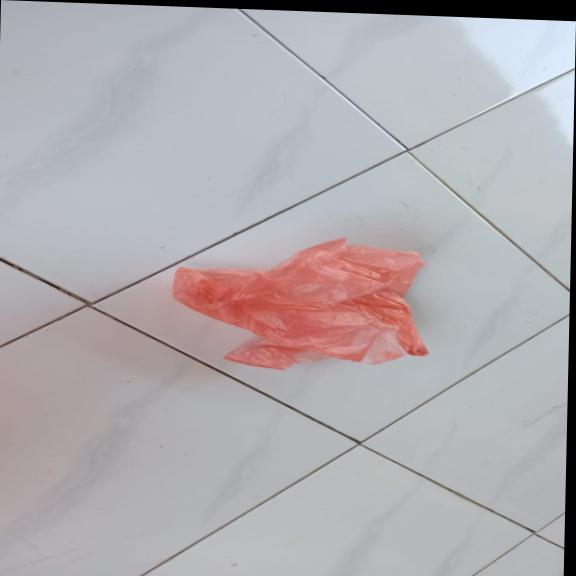Plastik: (169, 231, 432, 377)
